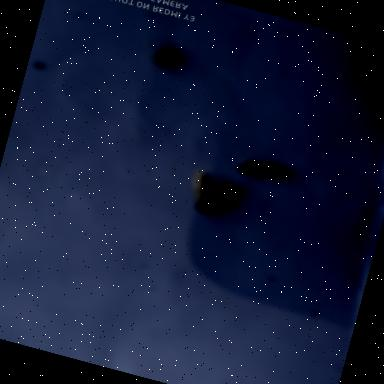pbw: (178, 164, 232, 219), (236, 154, 292, 186), (152, 42, 188, 69)
